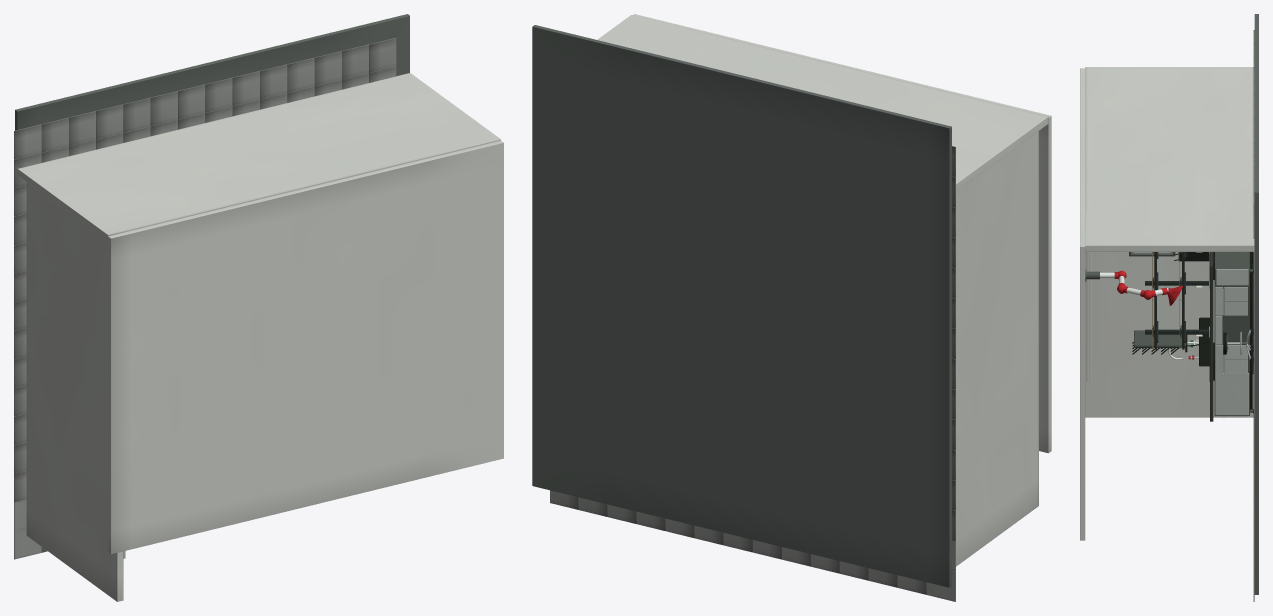
File: usedv6-scene.glb
3 views of the same model, side by side, from view 1: azimuth 30°, elevation 25°; view 2: azimuth 150°, elevation 25°; view 3: azimuth 270°, elevation 25° (orthographic). The views are drawn at different scales.
Visible parts, largest first — view 1: Ceiling, Back plaster wall, Left plaster wall, Floor slab, Glazed square floor tile.029, Glazed square floor tile.074, Glazed square floor tile.089, Glazed square floor tile.119, Glazed square floor tile.164, Glazed square floor tile.179, Glazed square floor tile.014, Glazed square floor tile.059 (+6 smaller); view 2: Floor slab, Left plaster wall, Back plaster wall, Ceiling; view 3: Back plaster wall, Left plaster wall, Floor slab, Ceiling, Island continuous steel carcass, Sink unit side cheek.001, Side double cupboard.003, Drying rack raised graphite frame, Island solid epoxy countertop, Side double cupboard.002, Rear island end panel.001, Black splash divider behind front sink (+8 smaller).
Boxes of the visible parts, x1,y1,x2,y2 form: Ceiling: (108,140,503,554); Back plaster wall: (17,73,500,241); Left plaster wall: (26,182,123,601); Floor slab: (15,14,409,130); Glazed square floor tile.029: (41,117,68,152); Glazed square floor tile.074: (123,97,150,132); Glazed square floor tile.089: (150,91,177,125); Glazed square floor tile.119: (205,78,232,112); Glazed square floor tile.164: (287,58,314,92); Glazed square floor tile.179: (314,51,341,85); Glazed square floor tile.014: (14,124,41,159); Glazed square floor tile.059: (96,104,123,139); Floor slab: (532,25,951,587); Left plaster wall: (956,131,1038,566); Back plaster wall: (597,15,1048,190); Ceiling: (633,14,1051,453); Back plaster wall: (1085,67,1254,251); Left plaster wall: (1085,252,1253,417); Floor slab: (1254,14,1258,594); Ceiling: (1080,68,1085,540); Island continuous steel carcass: (1214,252,1249,415); Sink unit side cheek.001: (1215,373,1248,415); Side double cupboard.003: (1224,287,1247,315); Drying rack raised graphite frame: (1134,330,1185,347); Island solid epoxy countertop: (1210,252,1213,421); Side double cupboard.002: (1224,345,1247,373); Rear island end panel.001: (1216,269,1248,285); Black splash divider behind front sink: (1199,317,1209,366).
Bounding box in the file's own units: 9.58 × 10.33 × 4.02.
Materials: 233 (233 with a texture image).
